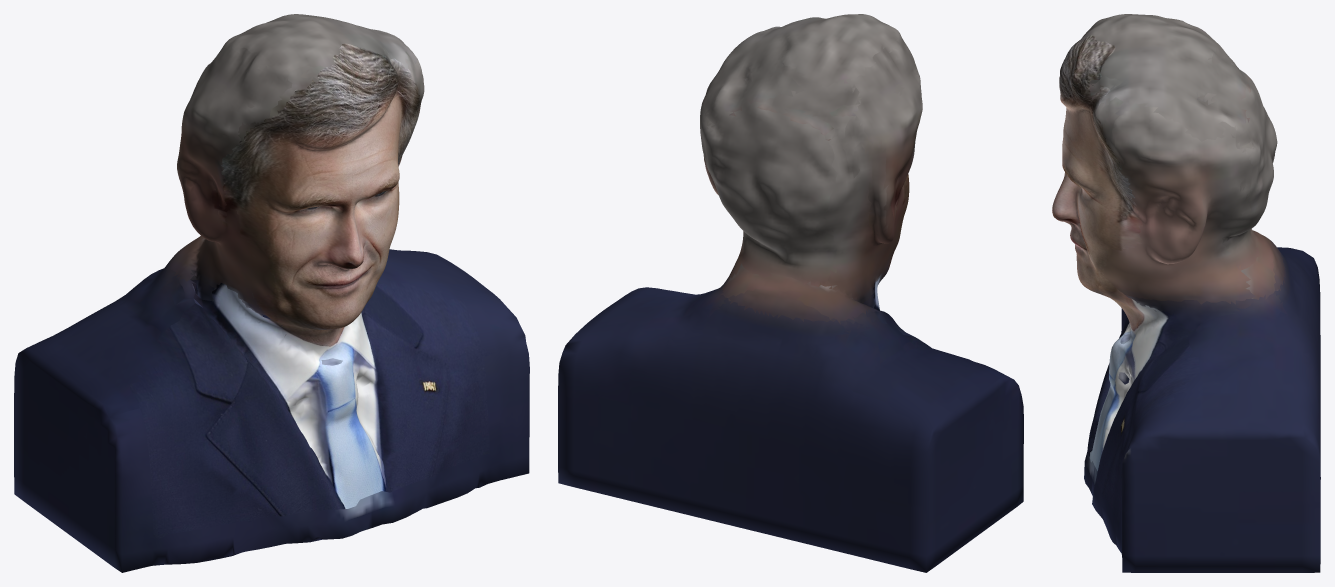
File: face_textured_small.glb
The picture shows the model from 3 angles, left to right: view 1: azimuth 30°, elevation 25°; view 2: azimuth 150°, elevation 25°; view 3: azimuth 270°, elevation 25°; orthographic projection. The views are drawn at different scales.
Parts seen in each view (by area): view 1: head_bust; view 2: head_bust; view 3: head_bust.
Boxes of the visible parts, x1,y1,x2,y2 form: head_bust: (14,14,529,572); head_bust: (558,14,1023,572); head_bust: (1052,14,1320,572).
Size of the model in its own units: 1.7 by 1.96 by 1.05.
1 material, 1 textured.
